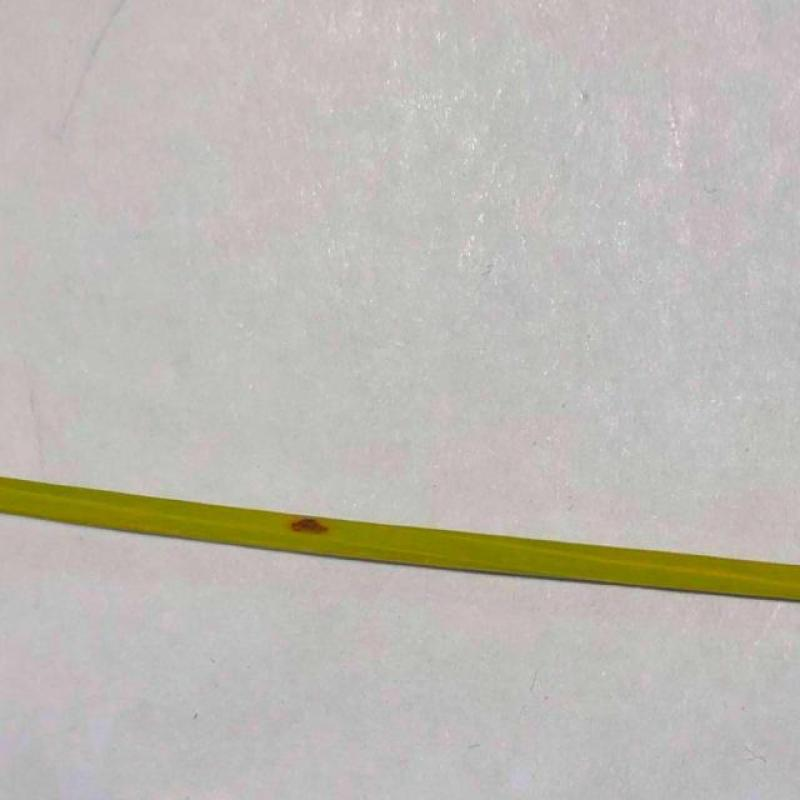Leaf_Blast: (239, 482, 361, 566)
